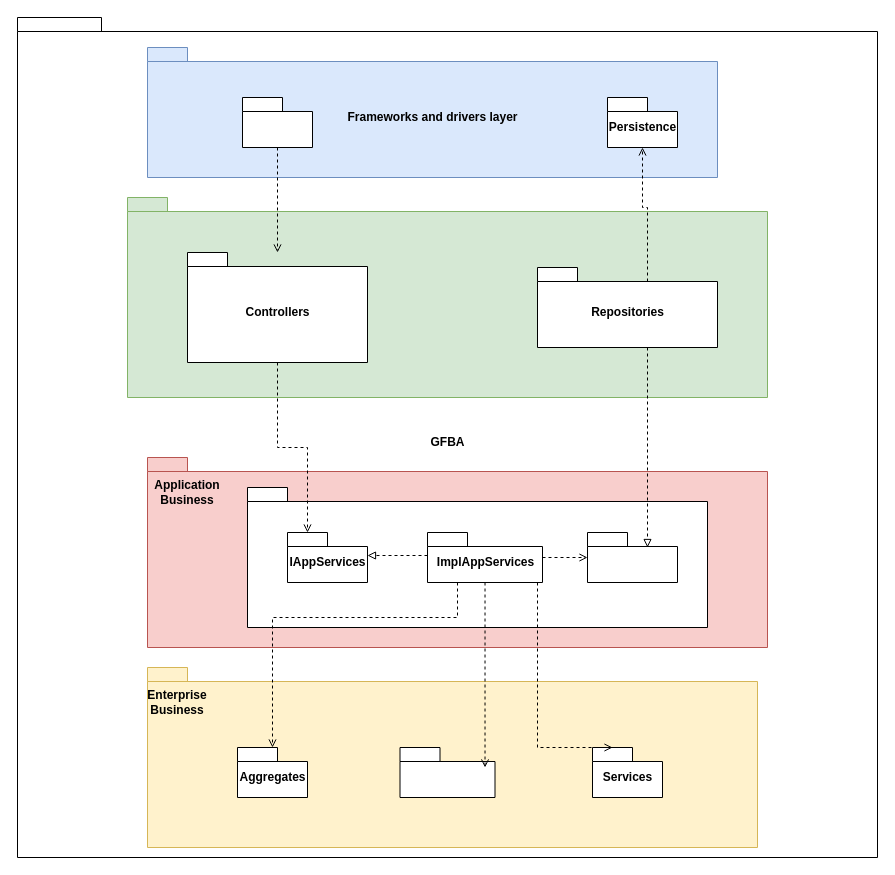
Some shapes in this 895 by 875 pixel diagram are drawn without their labels. The shapes that lost their labels are listed below. From the top down, each one's box as (x1, y1, x2, y2) in pixels, then its label:
(242, 96, 312, 148): Routes
(126, 196, 768, 398): Interface Adapters
(586, 532, 678, 582): IRepositories
(399, 746, 495, 798): Value Objects
